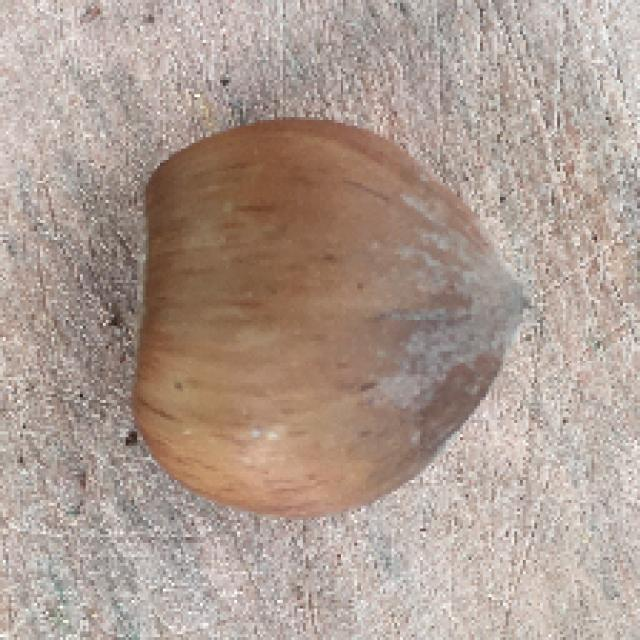DamagedHazelnut: (130, 122, 528, 521)
